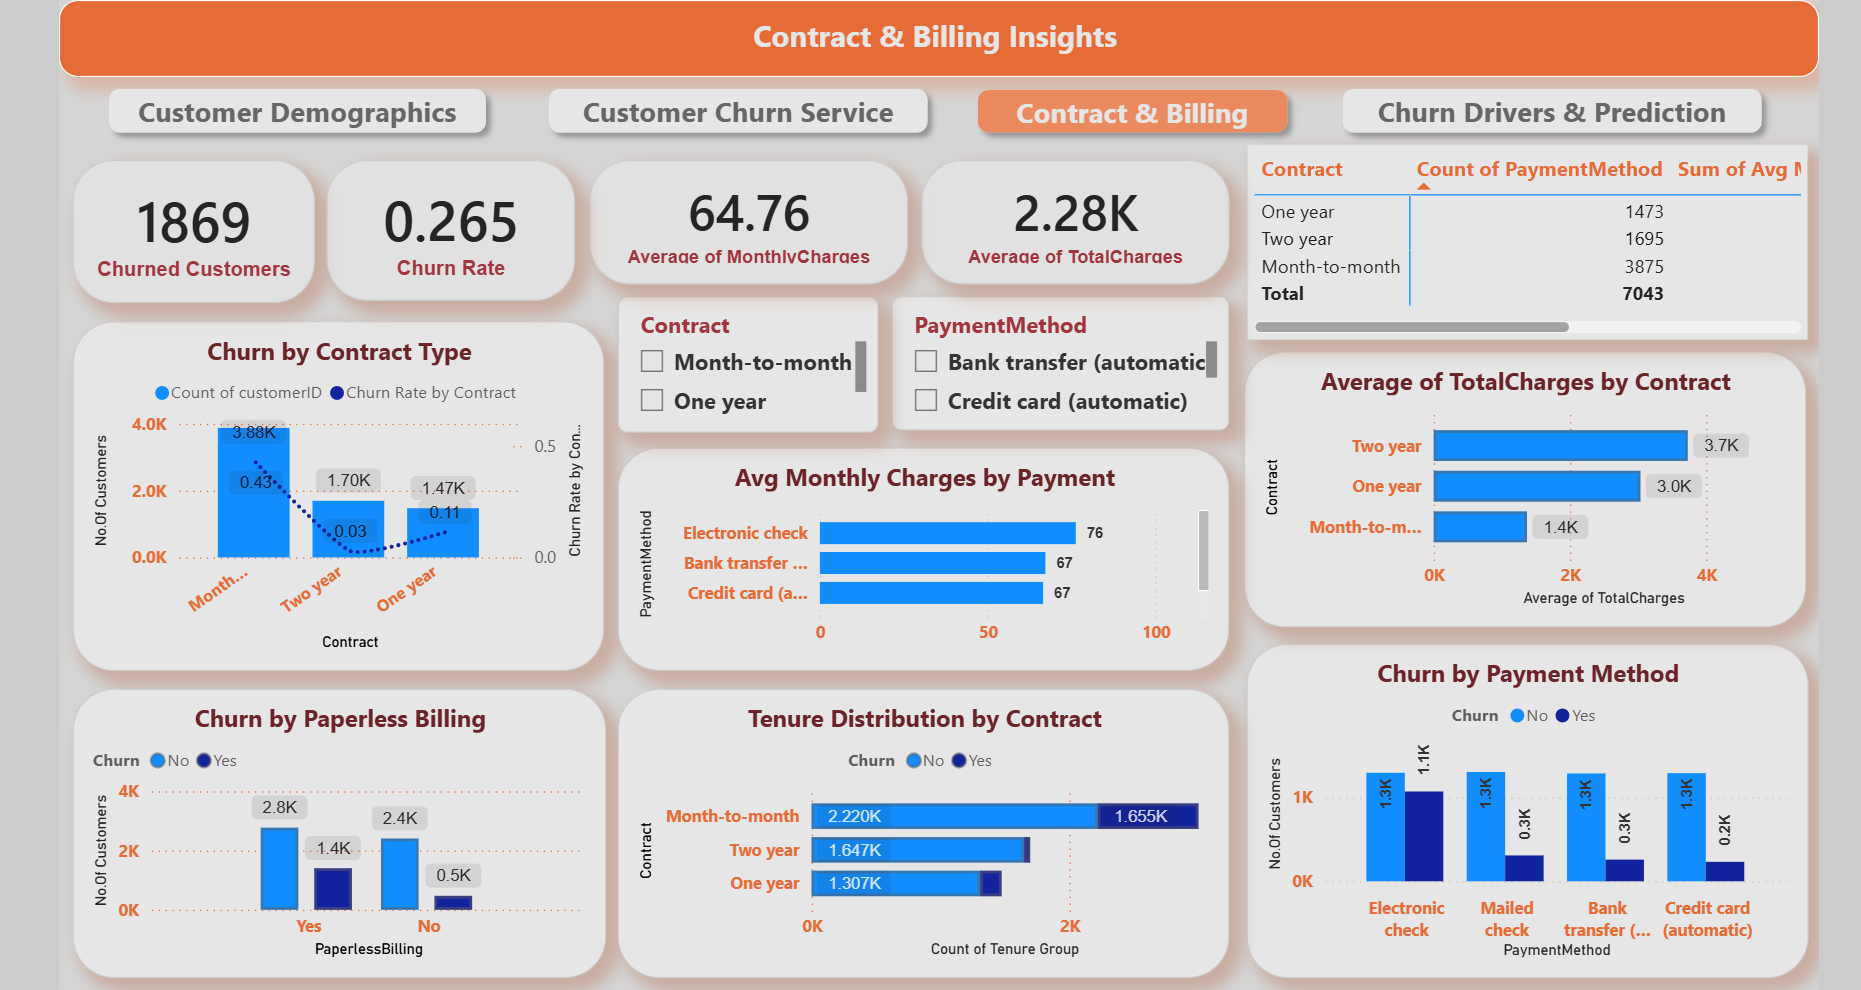

This screenshot's page, from the dashboard's own definition file:
{"tool":"powerbi","page":{"name":"Page 3","canvas":[1280,720],"ordinal":2},"visuals":[{"type":"lineClusteredColumnComboChart","title":"Churn by Contract Type","fields":{"Category":["DATASET.Contract"],"Y":["CountNonNull(DATASET.customerID)"],"Y2":["DATASET.Churn Rate by Contract"]},"box":[9.8,233.6,386.4,254.3],"z":0},{"type":"clusteredColumnChart","title":"Churn by Payment Method","fields":{"Category":["DATASET.PaymentMethod"],"Y":["CountNonNull(DATASET.customerID)"],"Series":["DATASET.Churn"]},"box":[863.3,468.3,408.4,243.3],"z":1000},{"type":"clusteredBarChart","fields":{"Category":["DATASET.Contract"],"Y":["Avg(DATASET.TotalCharges)"]},"box":[862.1,255.6,408.4,200.5],"z":2000},{"type":"clusteredBarChart","title":"Avg Monthly Charges by Payment","fields":{"Category":["DATASET.PaymentMethod"],"Y":["Avg(DATASET.MonthlyCharges)"]},"box":[406,325.3,445.1,162.6],"z":3000},{"type":"clusteredColumnChart","title":"Churn by Paperless Billing","fields":{"Category":["DATASET.PaperlessBilling"],"Series":["DATASET.Churn"],"Y":["CountNonNull(DATASET.customerID)"]},"box":[9.8,501.4,387.6,210.3],"z":4000},{"type":"barChart","title":"Tenure Distribution by Contract","fields":{"Category":["DATASET.Contract"],"Y":["CountNonNull(DATASET.Tenure Group)"],"Series":["DATASET.Churn"]},"box":[406,501.4,445.1,210.3],"z":5000},{"type":"slicer","fields":{"Values":["DATASET.PaymentMethod"]},"box":[605.3,215.2,245.8,97.8],"z":6000},{"type":"slicer","fields":{"Values":["DATASET.Contract"]},"box":[406,215.2,189.5,99],"z":7000},{"type":"pivotTable","fields":{"Rows":["DATASET.Contract"],"Values":["CountNonNull(DATASET.PaymentMethod)","Sum(DATASET.Avg Monthly Charges)","DATASET.Churn Rate Numeric"]},"box":[864.5,105.2,407.2,141.8],"z":8000},{"type":"card","fields":{"Values":["Avg(DATASET.MonthlyCharges)"]},"box":[385.2,116.2,232.3,90.5],"z":9000},{"type":"actionButton","box":[0,0,54.9,39.8],"z":10000},{"type":"card","fields":{"Values":["Avg(DATASET.TotalCharges)"]},"box":[627.3,116.2,223.8,90.5],"z":11000},{"type":"card","fields":{"Values":["DATASET.Churned Customers"]},"box":[9.8,116.2,176.1,103.9],"z":12000},{"type":"card","fields":{"Values":["DATASET.Churn Rate Numeric"]},"box":[194.4,116.2,181,102.7],"z":13000},{"type":"textbox","box":[0,0,1280.3,56.3],"z":14000},{"type":"shape","box":[26.9,55,292.3,50.1],"z":15000},{"type":"shape","box":[347.3,55,293.5,50.1],"z":16000},{"type":"shape","box":[659.1,56.3,243.3,48.9],"z":17000},{"type":"shape","box":[924.5,55,322.8,50.1],"z":18000}]}

Visuals, with their boxes on the page's 1280x720 design canvas (x1, y1, x2, y2). These are canvas units, not pixel positions in the 1861x990 screenshot, which may show the page scaled, cropped or inside an application window:
"Churn by Contract Type" lineClusteredColumnComboChart: crop(10, 234, 396, 488)
"Churn by Payment Method" clusteredColumnChart: crop(863, 468, 1272, 712)
clusteredBarChart - DATASET.Contract x Avg(DATASET.TotalCharges): crop(862, 256, 1270, 456)
"Avg Monthly Charges by Payment" clusteredBarChart: crop(406, 325, 851, 488)
"Churn by Paperless Billing" clusteredColumnChart: crop(10, 501, 397, 712)
"Tenure Distribution by Contract" barChart: crop(406, 501, 851, 712)
slicer - DATASET.PaymentMethod: crop(605, 215, 851, 313)
slicer - DATASET.Contract: crop(406, 215, 596, 314)
pivotTable - DATASET.Contract x CountNonNull(DATASET.PaymentMethod): crop(864, 105, 1272, 247)
card - Avg(DATASET.MonthlyCharges): crop(385, 116, 618, 207)
actionButton: crop(0, 0, 55, 40)
card - Avg(DATASET.TotalCharges): crop(627, 116, 851, 207)
card - DATASET.Churned Customers: crop(10, 116, 186, 220)
card - DATASET.Churn Rate Numeric: crop(194, 116, 375, 219)
textbox: crop(0, 0, 1280, 56)
shape: crop(27, 55, 319, 105)
shape: crop(347, 55, 641, 105)
shape: crop(659, 56, 902, 105)
shape: crop(924, 55, 1247, 105)
